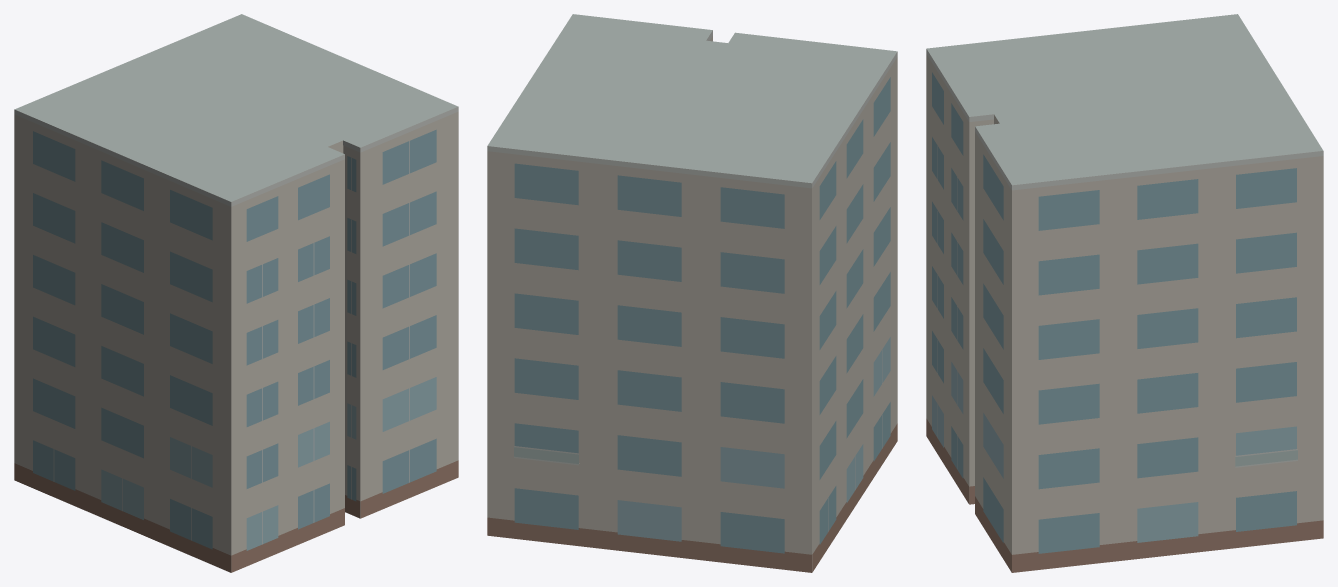
The model's file is survey-upis-33013535.glb.
3 renders of one model, left to right at view 1: azimuth 30°, elevation 25°; view 2: azimuth 150°, elevation 25°; view 3: azimuth 270°, elevation 25°, orthographic. The views are drawn at different scales.
Visible parts, largest first — view 1: survey-upis-33013535.tmp; view 2: survey-upis-33013535.tmp; view 3: survey-upis-33013535.tmp.
Part boxes in pixels (<box>): survey-upis-33013535.tmp: <box>14,14,458,572</box>; survey-upis-33013535.tmp: <box>487,14,897,572</box>; survey-upis-33013535.tmp: <box>926,14,1323,572</box>.
Bounding box in the file's own units: 17.45 × 18.4 × 17.1.
